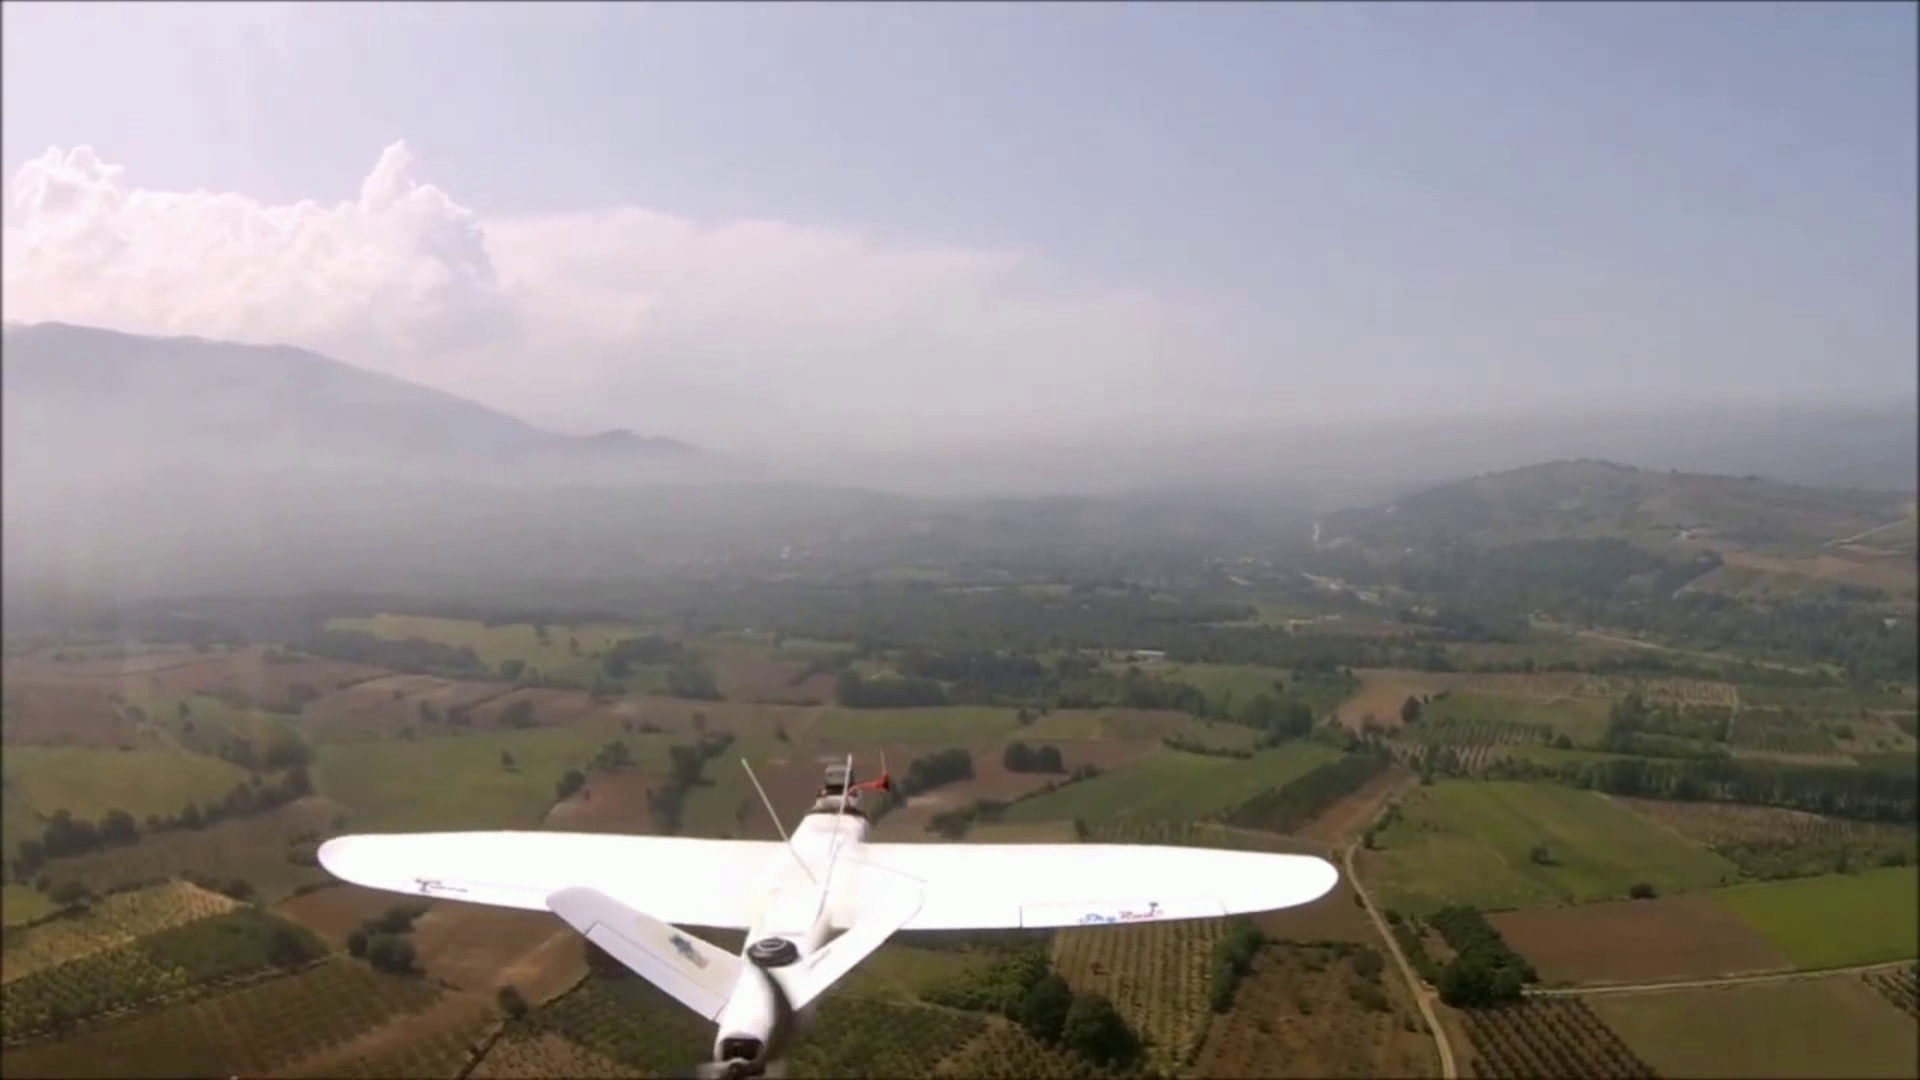airplane: (314, 752, 1341, 1073)
